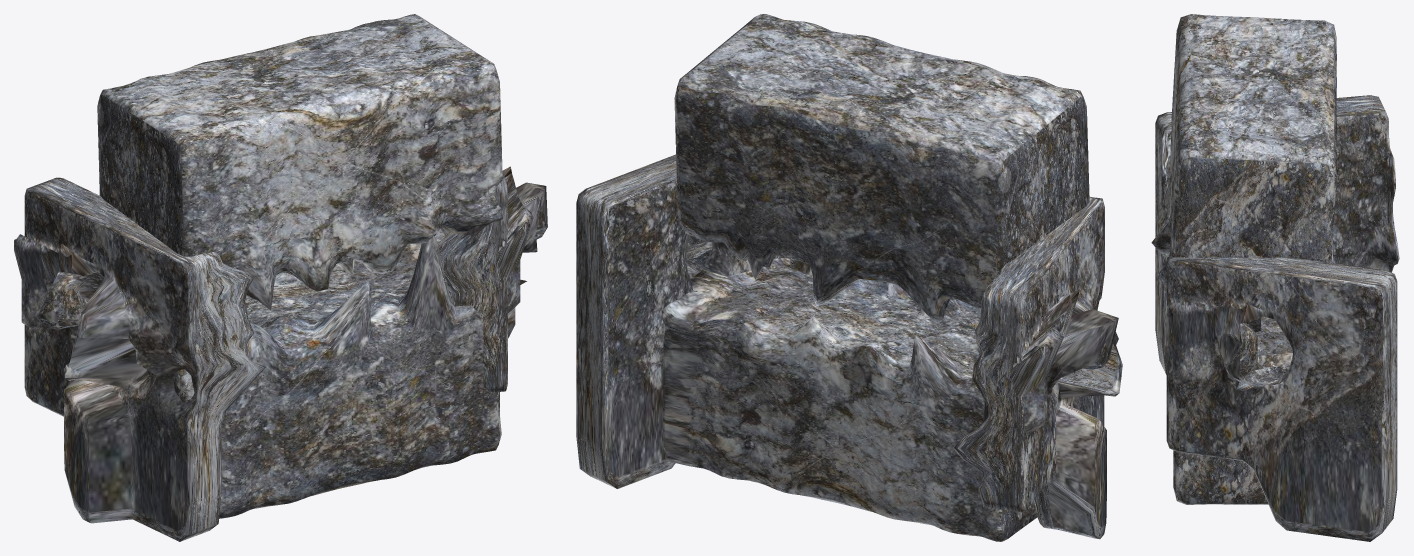
File: cave1.fbx
The picture shows the model from 3 angles, left to right: view 1: azimuth 30°, elevation 25°; view 2: azimuth 150°, elevation 25°; view 3: azimuth 270°, elevation 25°; orthographic projection. The views are drawn at different scales.
Visible parts, largest first — view 1: pCube2, pCube6, pCube1, pCube5; view 2: pCube2, pCube1, pCube6, pCube5; view 3: pCube5, pCube2, pCube6, pCube1.
Boxes of the visible parts, box(x1,y1,x2,y2) form: pCube2: box(97, 14, 502, 310); pCube6: box(14, 177, 265, 541); pCube1: box(147, 236, 515, 518); pCube5: box(434, 166, 547, 392); pCube2: box(674, 14, 1089, 323); pCube1: box(661, 258, 1037, 541); pCube6: box(953, 197, 1122, 539); pCube5: box(576, 154, 790, 488); pCube5: box(1166, 256, 1397, 541); pCube2: box(1151, 14, 1336, 286); pCube6: box(1155, 95, 1399, 374); pCube1: box(1173, 240, 1345, 504).
Bounding box in the file's own units: 28.51 × 22.48 × 13.92.
Materials: 1 (1 with a texture image).
